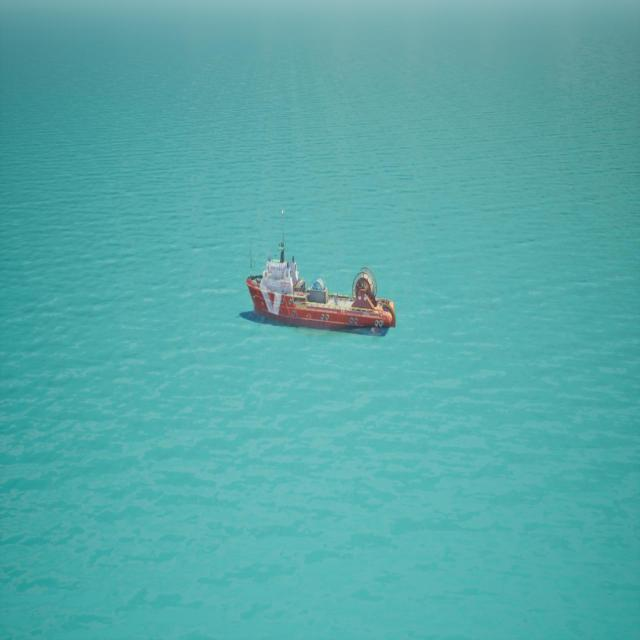tug boat: (244, 215, 399, 341)
